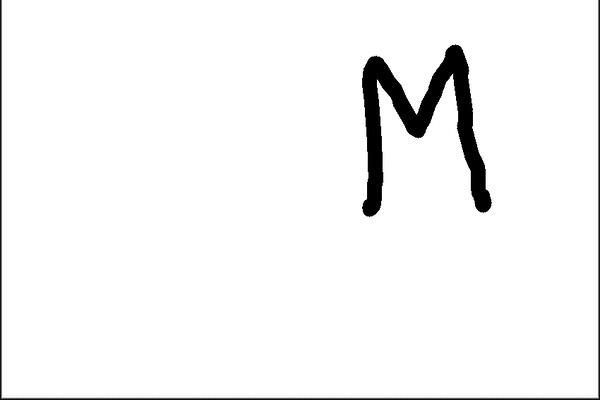M: (356, 44, 496, 217)
